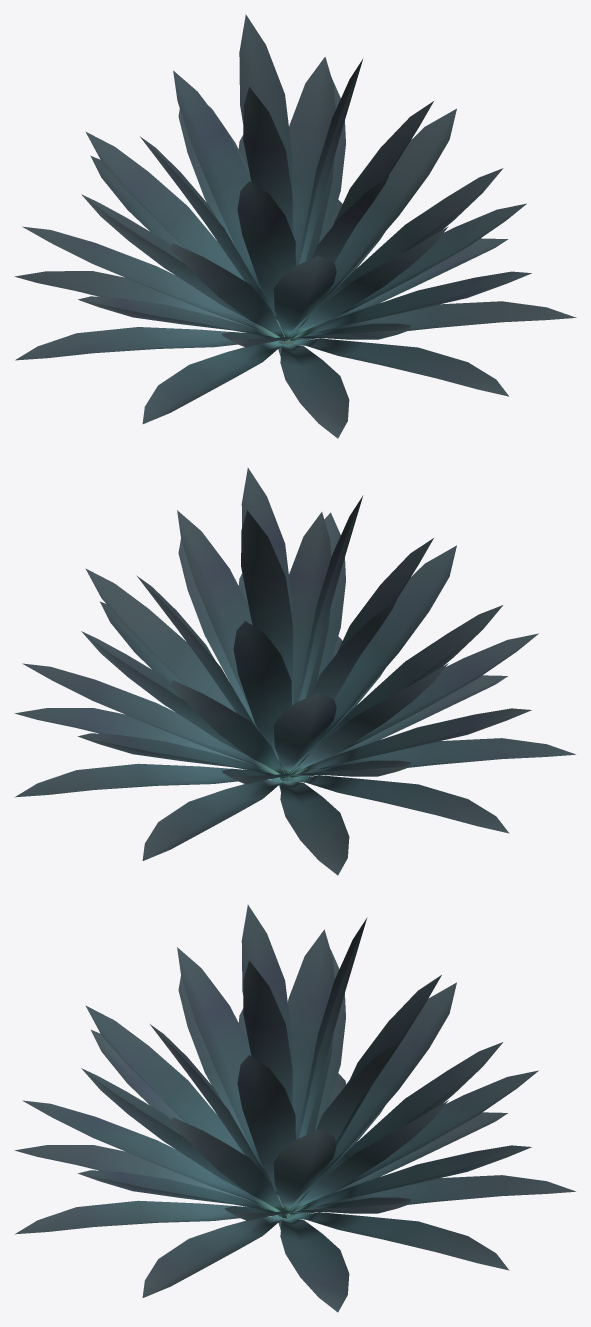
Rendered from plants-cacti-succulents-spiky-rosette_v4.glb.
3 renders of one model, top to bottom at view 1: azimuth 30°, elevation 25°; view 2: azimuth 150°, elevation 25°; view 3: azimuth 270°, elevation 25°, orthographic.
Parts seen in each view (by area): view 1: Spiky Rosette_v4; view 2: Spiky Rosette_v4; view 3: Spiky Rosette_v4.
Boxes of the visible parts, bbox=[...] form: Spiky Rosette_v4: bbox=[15, 14, 576, 438]; Spiky Rosette_v4: bbox=[14, 468, 575, 875]; Spiky Rosette_v4: bbox=[14, 905, 575, 1312].
Size of the model in its own units: 0.6 by 0.3871 by 0.5912.
